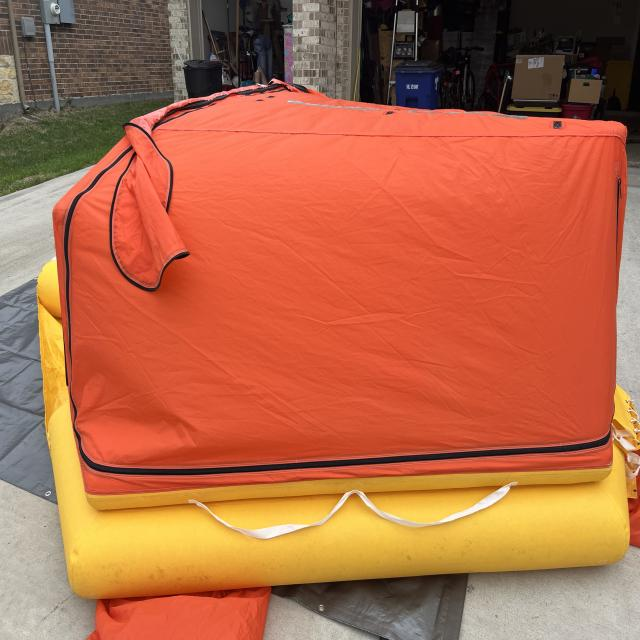Multi-person_life_raft: (37, 77, 640, 639)
